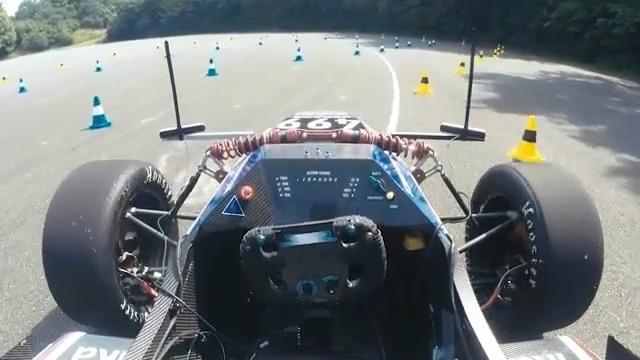blue_cone: (88, 95, 114, 127), (203, 55, 225, 81), (291, 47, 306, 62), (353, 44, 364, 58), (380, 42, 390, 53)
yellow_cone: (508, 116, 552, 161), (415, 74, 445, 99), (456, 55, 473, 78)
